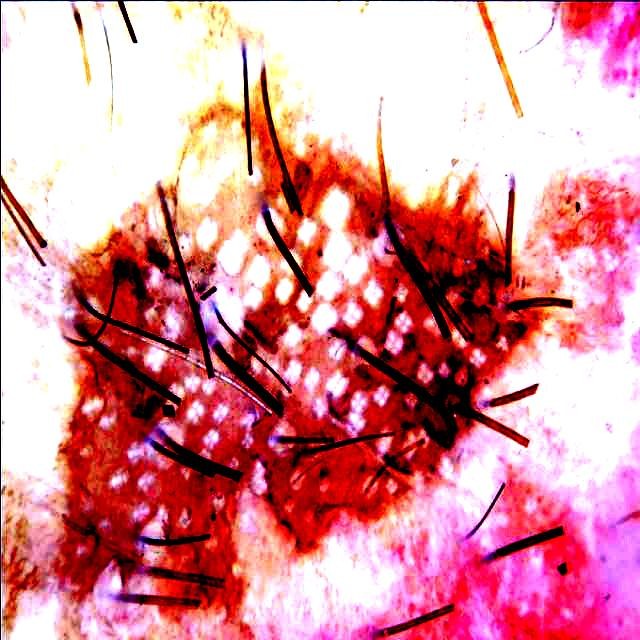AKIEC: (25, 77, 535, 598)
